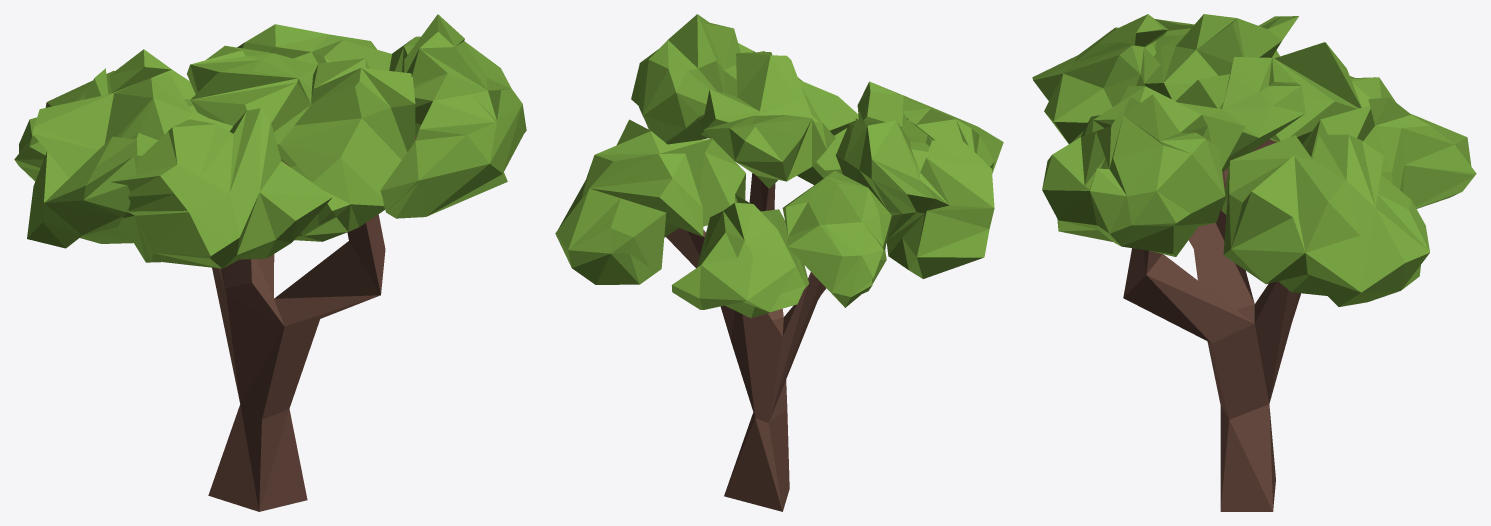
The picture shows the model from 3 angles, left to right: view 1: azimuth 30°, elevation 25°; view 2: azimuth 150°, elevation 25°; view 3: azimuth 270°, elevation 25°; orthographic projection. The views are drawn at different scales.
Parts seen in each view (by area): view 1: node_MeshObject299166464-PolyPaper20; view 2: node_MeshObject299166464-PolyPaper20; view 3: node_MeshObject299166464-PolyPaper20.
Part boxes in pixels (<box>): node_MeshObject299166464-PolyPaper20: <box>14,14,526,511</box>; node_MeshObject299166464-PolyPaper20: <box>555,14,1003,511</box>; node_MeshObject299166464-PolyPaper20: <box>1032,14,1476,511</box>.
Bounding box in the file's own units: 1.65 × 1.74 × 1.52.
